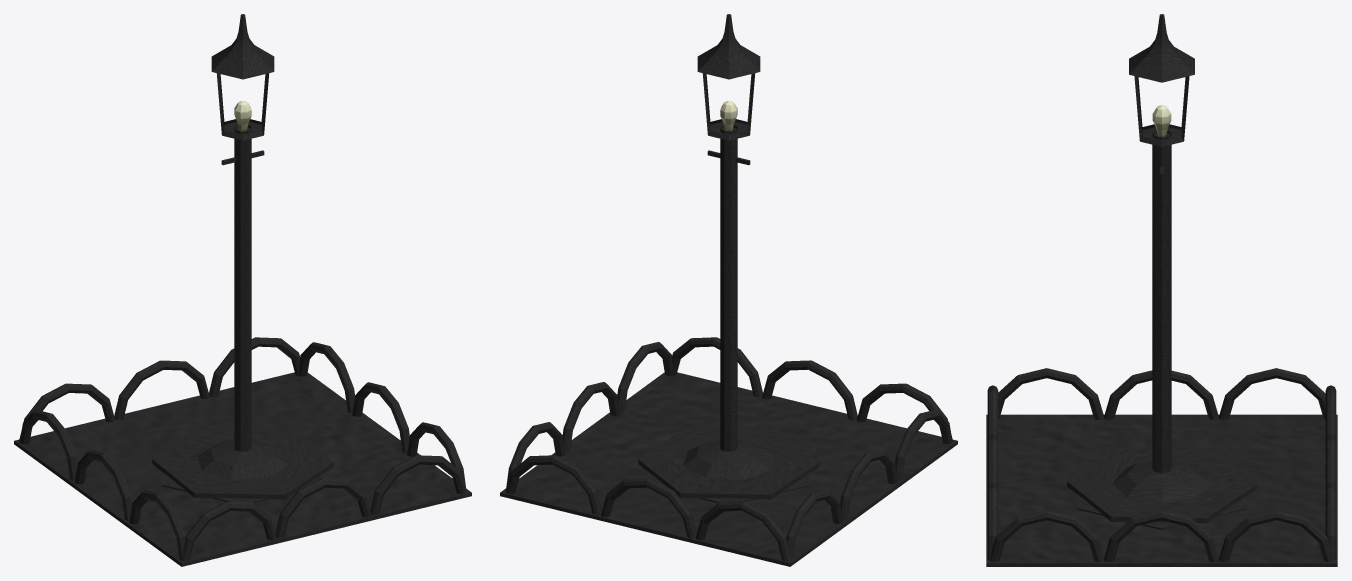
File: urb_lamp.obj
3 views of the same model, side by side, from view 1: azimuth 30°, elevation 25°; view 2: azimuth 150°, elevation 25°; view 3: azimuth 270°, elevation 25° (orthographic). The views are drawn at different scales.
Parts seen in each view (by area): view 1: polySurface20; view 2: polySurface20; view 3: polySurface20.
Part boxes in pixels (box(x1,y1,x2,y2)): polySurface20: box(14, 14, 471, 566); polySurface20: box(500, 14, 957, 566); polySurface20: box(986, 14, 1337, 566).
Size of the model in its own units: 1 by 1.5 by 1.
